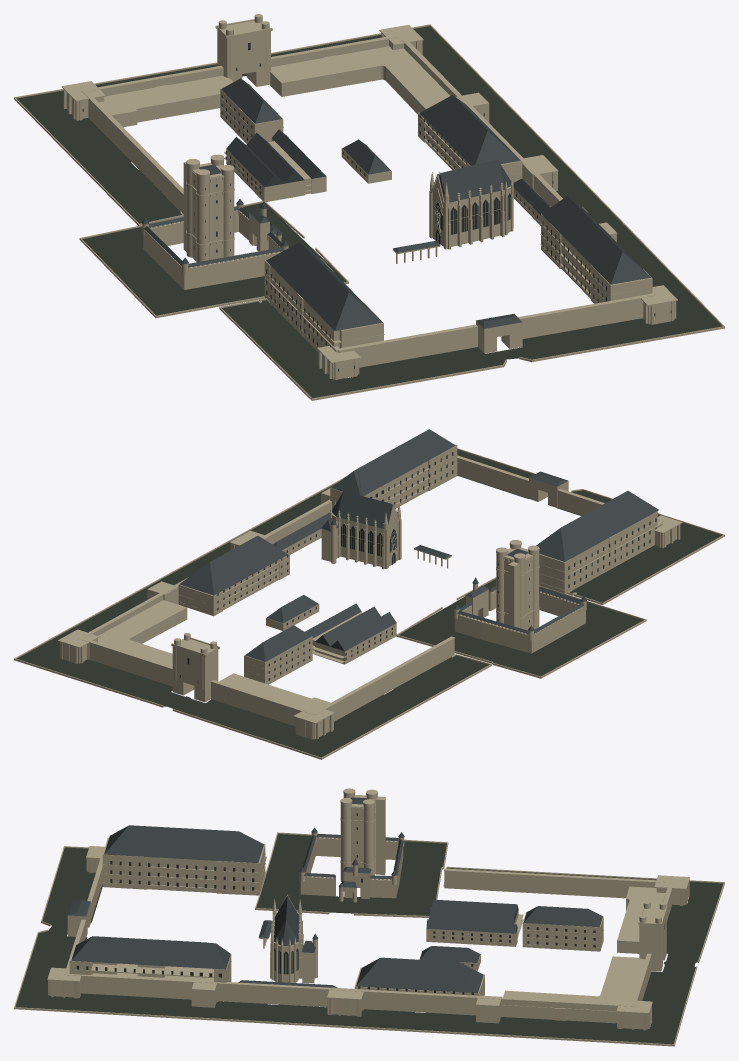
File: chateau-de-vincennes-near.glb
3 renders of one model, top to bottom at view 1: azimuth 30°, elevation 25°; view 2: azimuth 150°, elevation 25°; view 3: azimuth 270°, elevation 25°, orthographic. The views are drawn at different scales.
Parts seen in each view (by area): view 1: chateau-de-vincennes-0-stone, chateau-de-vincennes-0-moat, chateau-de-vincennes-0-roof, chateau-de-vincennes-0-glass; view 2: chateau-de-vincennes-0-stone, chateau-de-vincennes-0-moat, chateau-de-vincennes-0-roof, chateau-de-vincennes-0-glass; view 3: chateau-de-vincennes-0-stone, chateau-de-vincennes-0-moat, chateau-de-vincennes-0-roof, chateau-de-vincennes-0-glass.
Boxes of the visible parts, <box> form: chateau-de-vincennes-0-stone: <box>14,14,724,400</box>; chateau-de-vincennes-0-moat: <box>16,26,722,398</box>; chateau-de-vincennes-0-roof: <box>142,78,650,330</box>; chateau-de-vincennes-0-glass: <box>82,42,671,371</box>; chateau-de-vincennes-0-stone: <box>14,444,724,759</box>; chateau-de-vincennes-0-moat: <box>17,450,721,757</box>; chateau-de-vincennes-0-roof: <box>179,429,658,661</box>; chateau-de-vincennes-0-glass: <box>180,452,656,682</box>; chateau-de-vincennes-0-stone: <box>14,788,724,1046</box>; chateau-de-vincennes-0-moat: <box>15,834,723,1044</box>; chateau-de-vincennes-0-roof: <box>68,797,602,993</box>; chateau-de-vincennes-0-glass: <box>76,813,664,994</box>.
Bounding box in the file's own units: 295 × 52.3 × 418.
